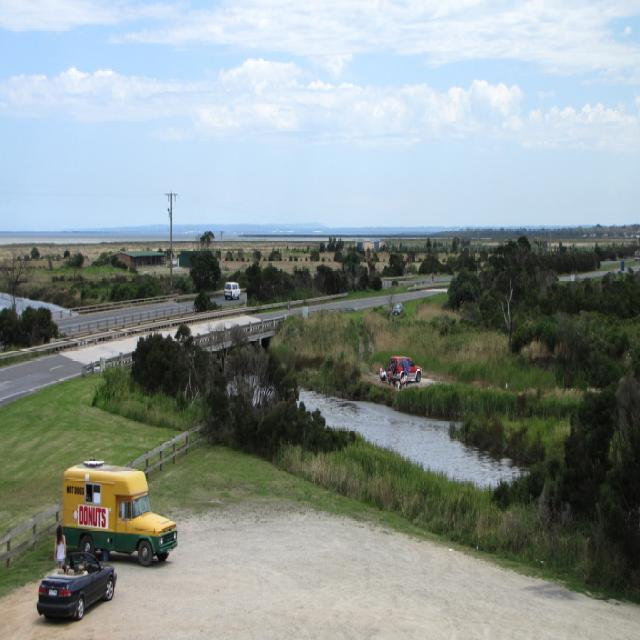car: (32, 541, 108, 620), (386, 351, 423, 388), (225, 275, 242, 299), (394, 300, 403, 310)
